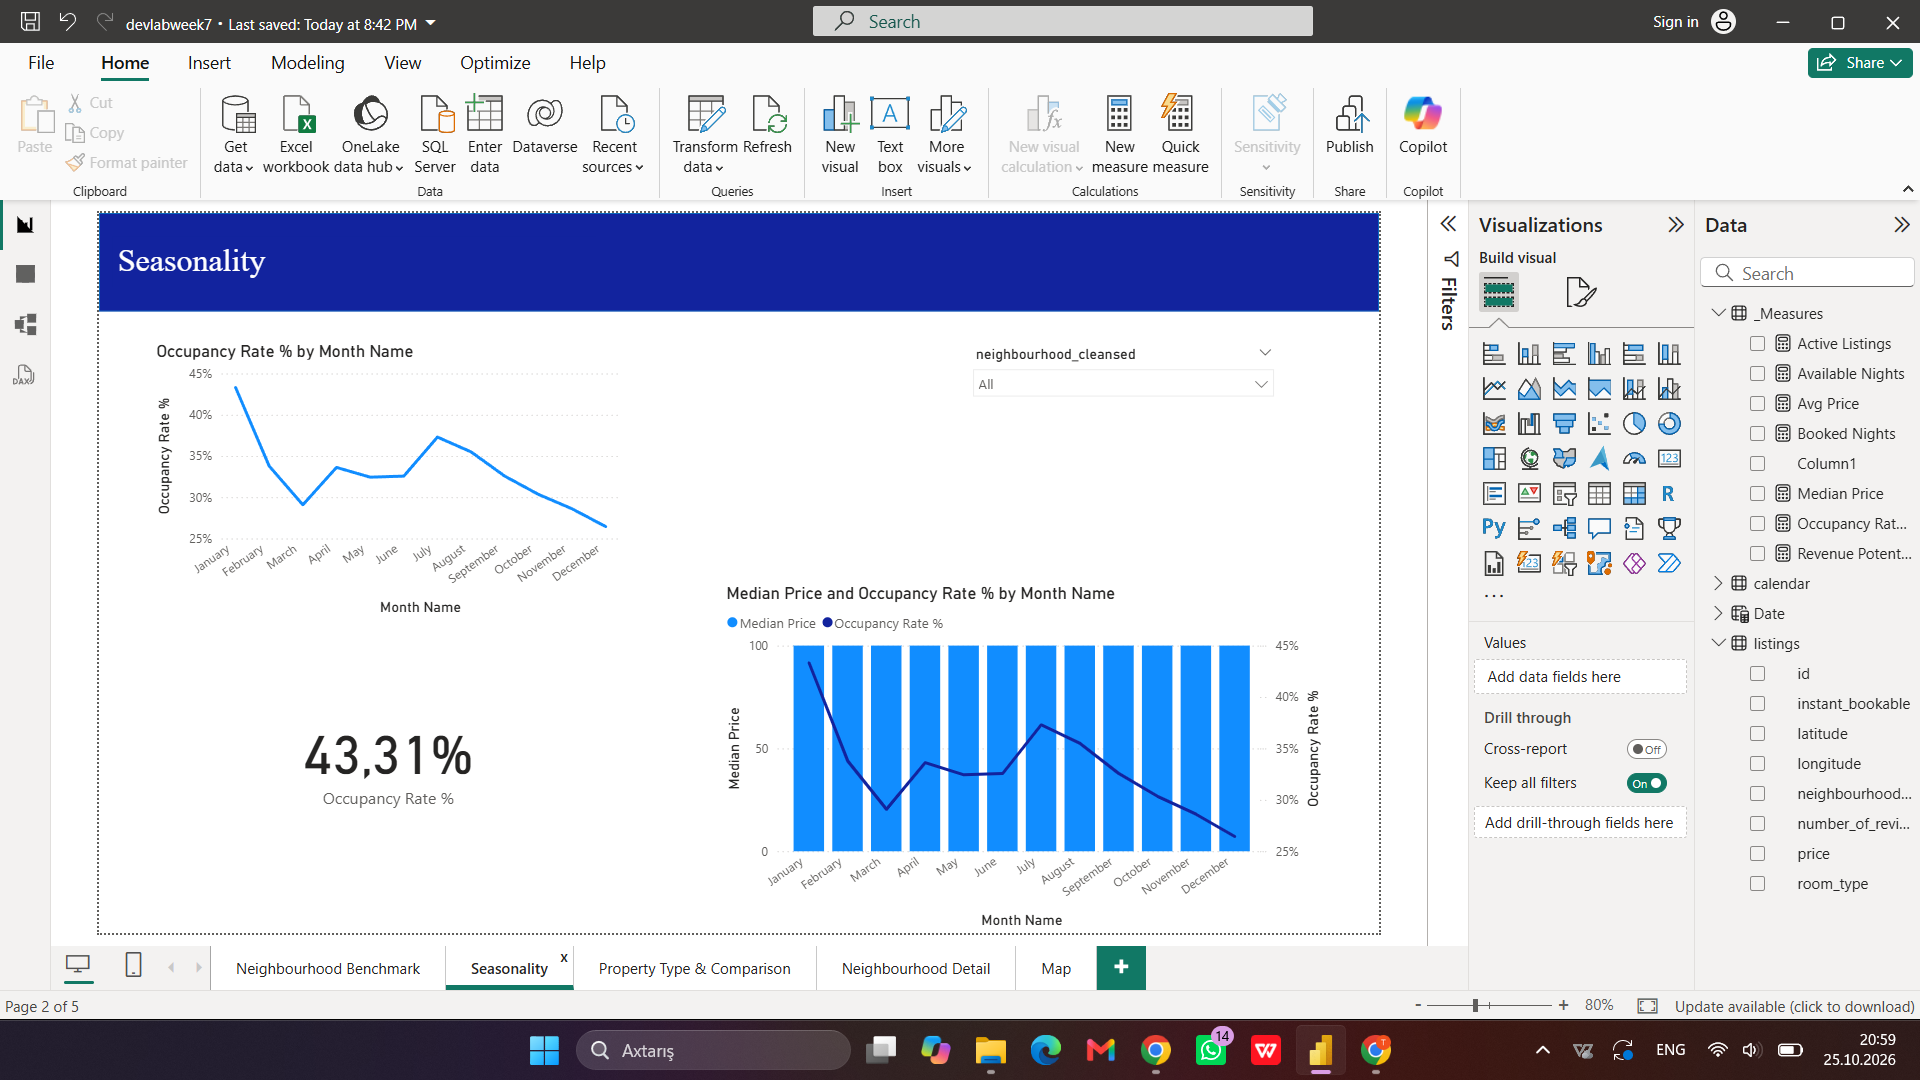

What the dashboard file says about the page in this screenshot:
{"tool":"powerbi","page":{"name":"Seasonality","canvas":[1280,720],"ordinal":1},"visuals":[{"type":"lineChart","fields":{"Category":["Date.Month Name"],"Y":["_Measures.Occupancy Rate %"]},"box":[52.9,127.1,472.9,280],"z":0},{"type":"lineStackedColumnComboChart","fields":{"Category":["Date.Month Name"],"Y":["_Measures.Median Price"],"Y2":["_Measures.Occupancy Rate %"]},"box":[622.9,370,604.3,350],"z":1000},{"type":"slicer","fields":{"Values":["listings.neighbourhood_cleansed"]},"box":[864.3,127.1,321.4,78.6],"z":2000},{"type":"card","fields":{"Values":["_Measures.Occupancy Rate %"]},"box":[128.6,475.7,321.4,140],"z":3000},{"type":"shape","box":[0,0,1280,98.6],"z":3001},{"type":"textbox","box":[14.3,24.3,482.9,62.9],"z":3002}]}

Visuals, with their boxes on the page's 1280x720 design canvas (x1, y1, x2, y2). These are canvas units, not pixel positions in the 1920x1080 screenshot, which may show the page scaled, cropped or inside an application window:
lineChart - Date.Month Name x _Measures.Occupancy Rate %: locate(53, 127, 526, 407)
lineStackedColumnComboChart - Date.Month Name x _Measures.Median Price: locate(623, 370, 1227, 720)
slicer - listings.neighbourhood_cleansed: locate(864, 127, 1186, 206)
card - _Measures.Occupancy Rate %: locate(129, 476, 450, 616)
shape: locate(0, 0, 1280, 99)
textbox: locate(14, 24, 497, 87)
